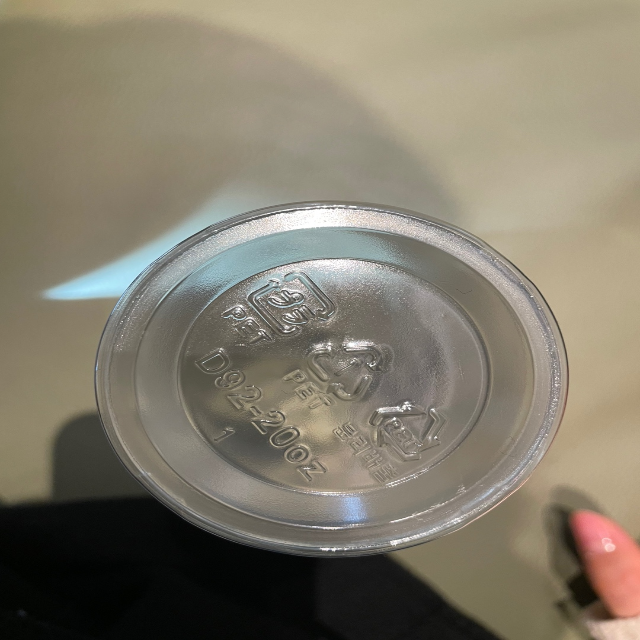pet: (216, 266, 337, 350), (330, 405, 443, 483), (283, 340, 387, 416)
